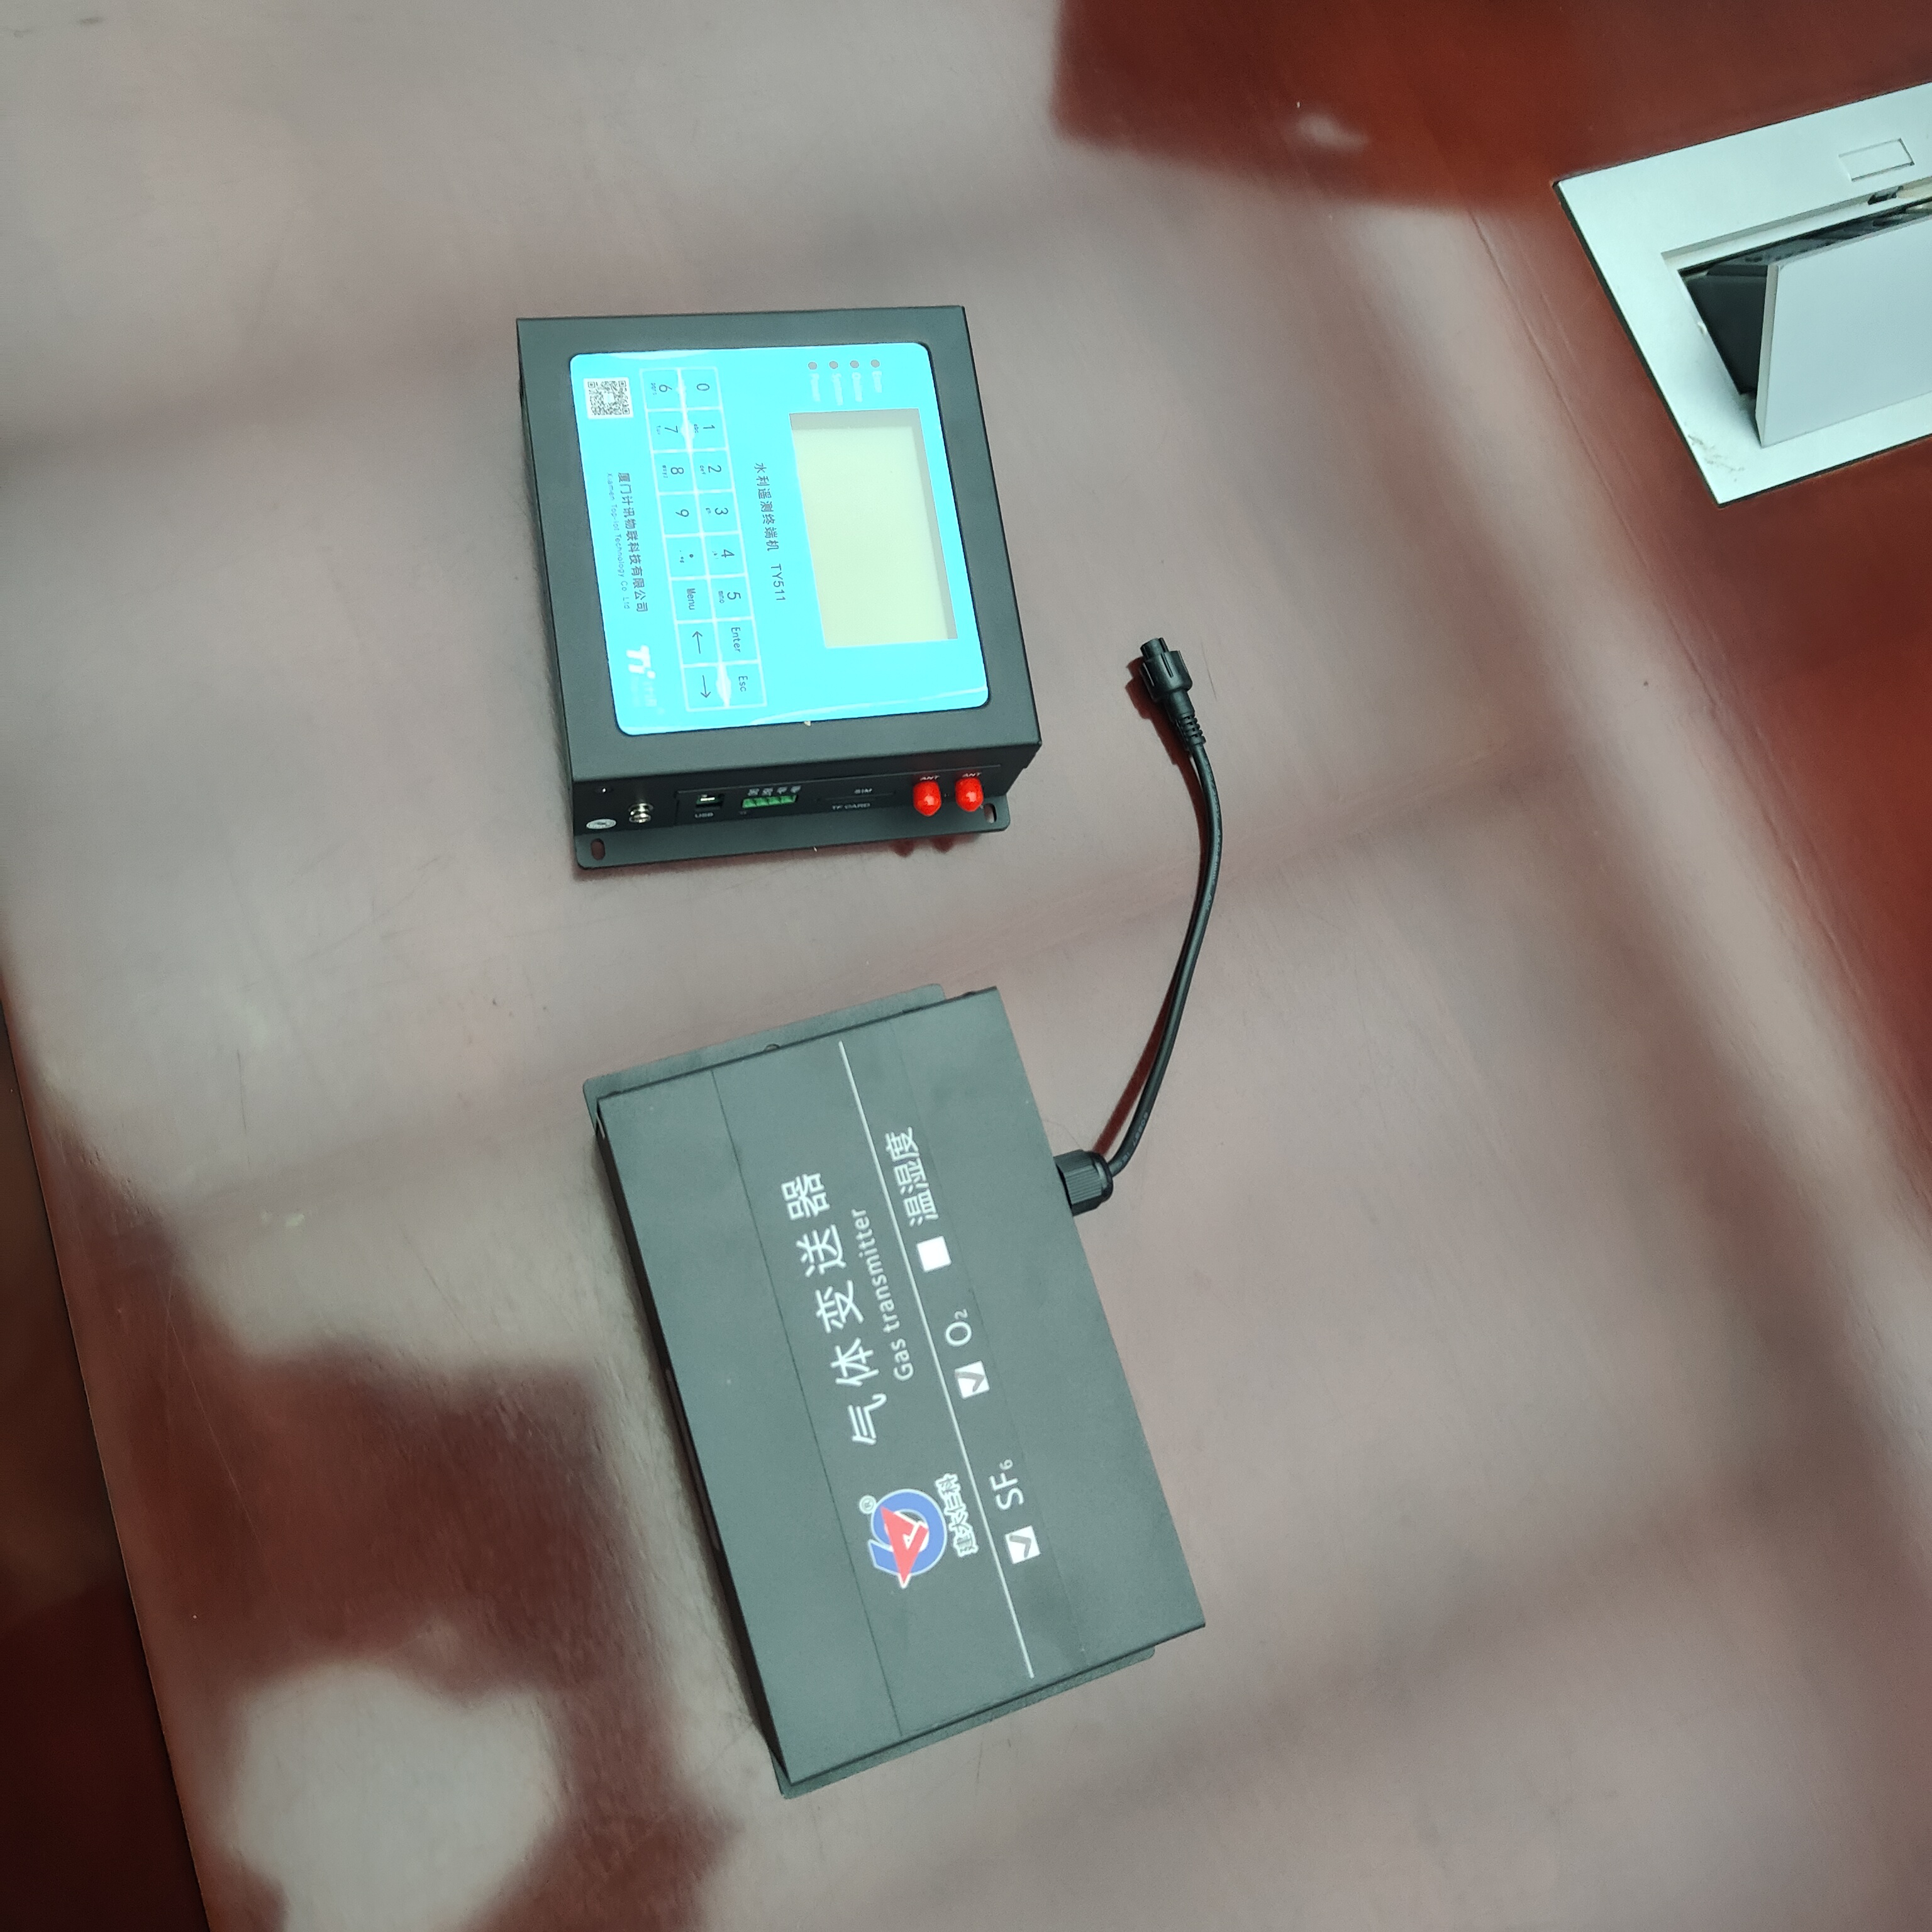qtbsq: (580, 968, 1224, 1773)
slyczd: (499, 272, 1051, 890)
